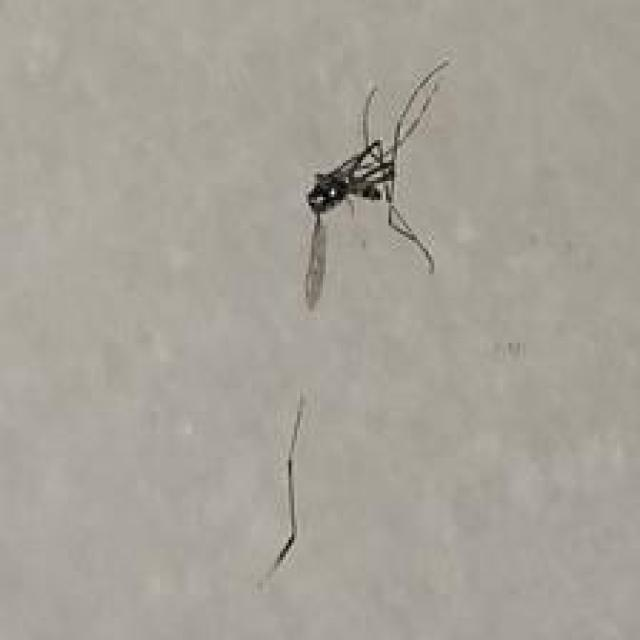Aedes albopictus: (300, 56, 451, 310)
